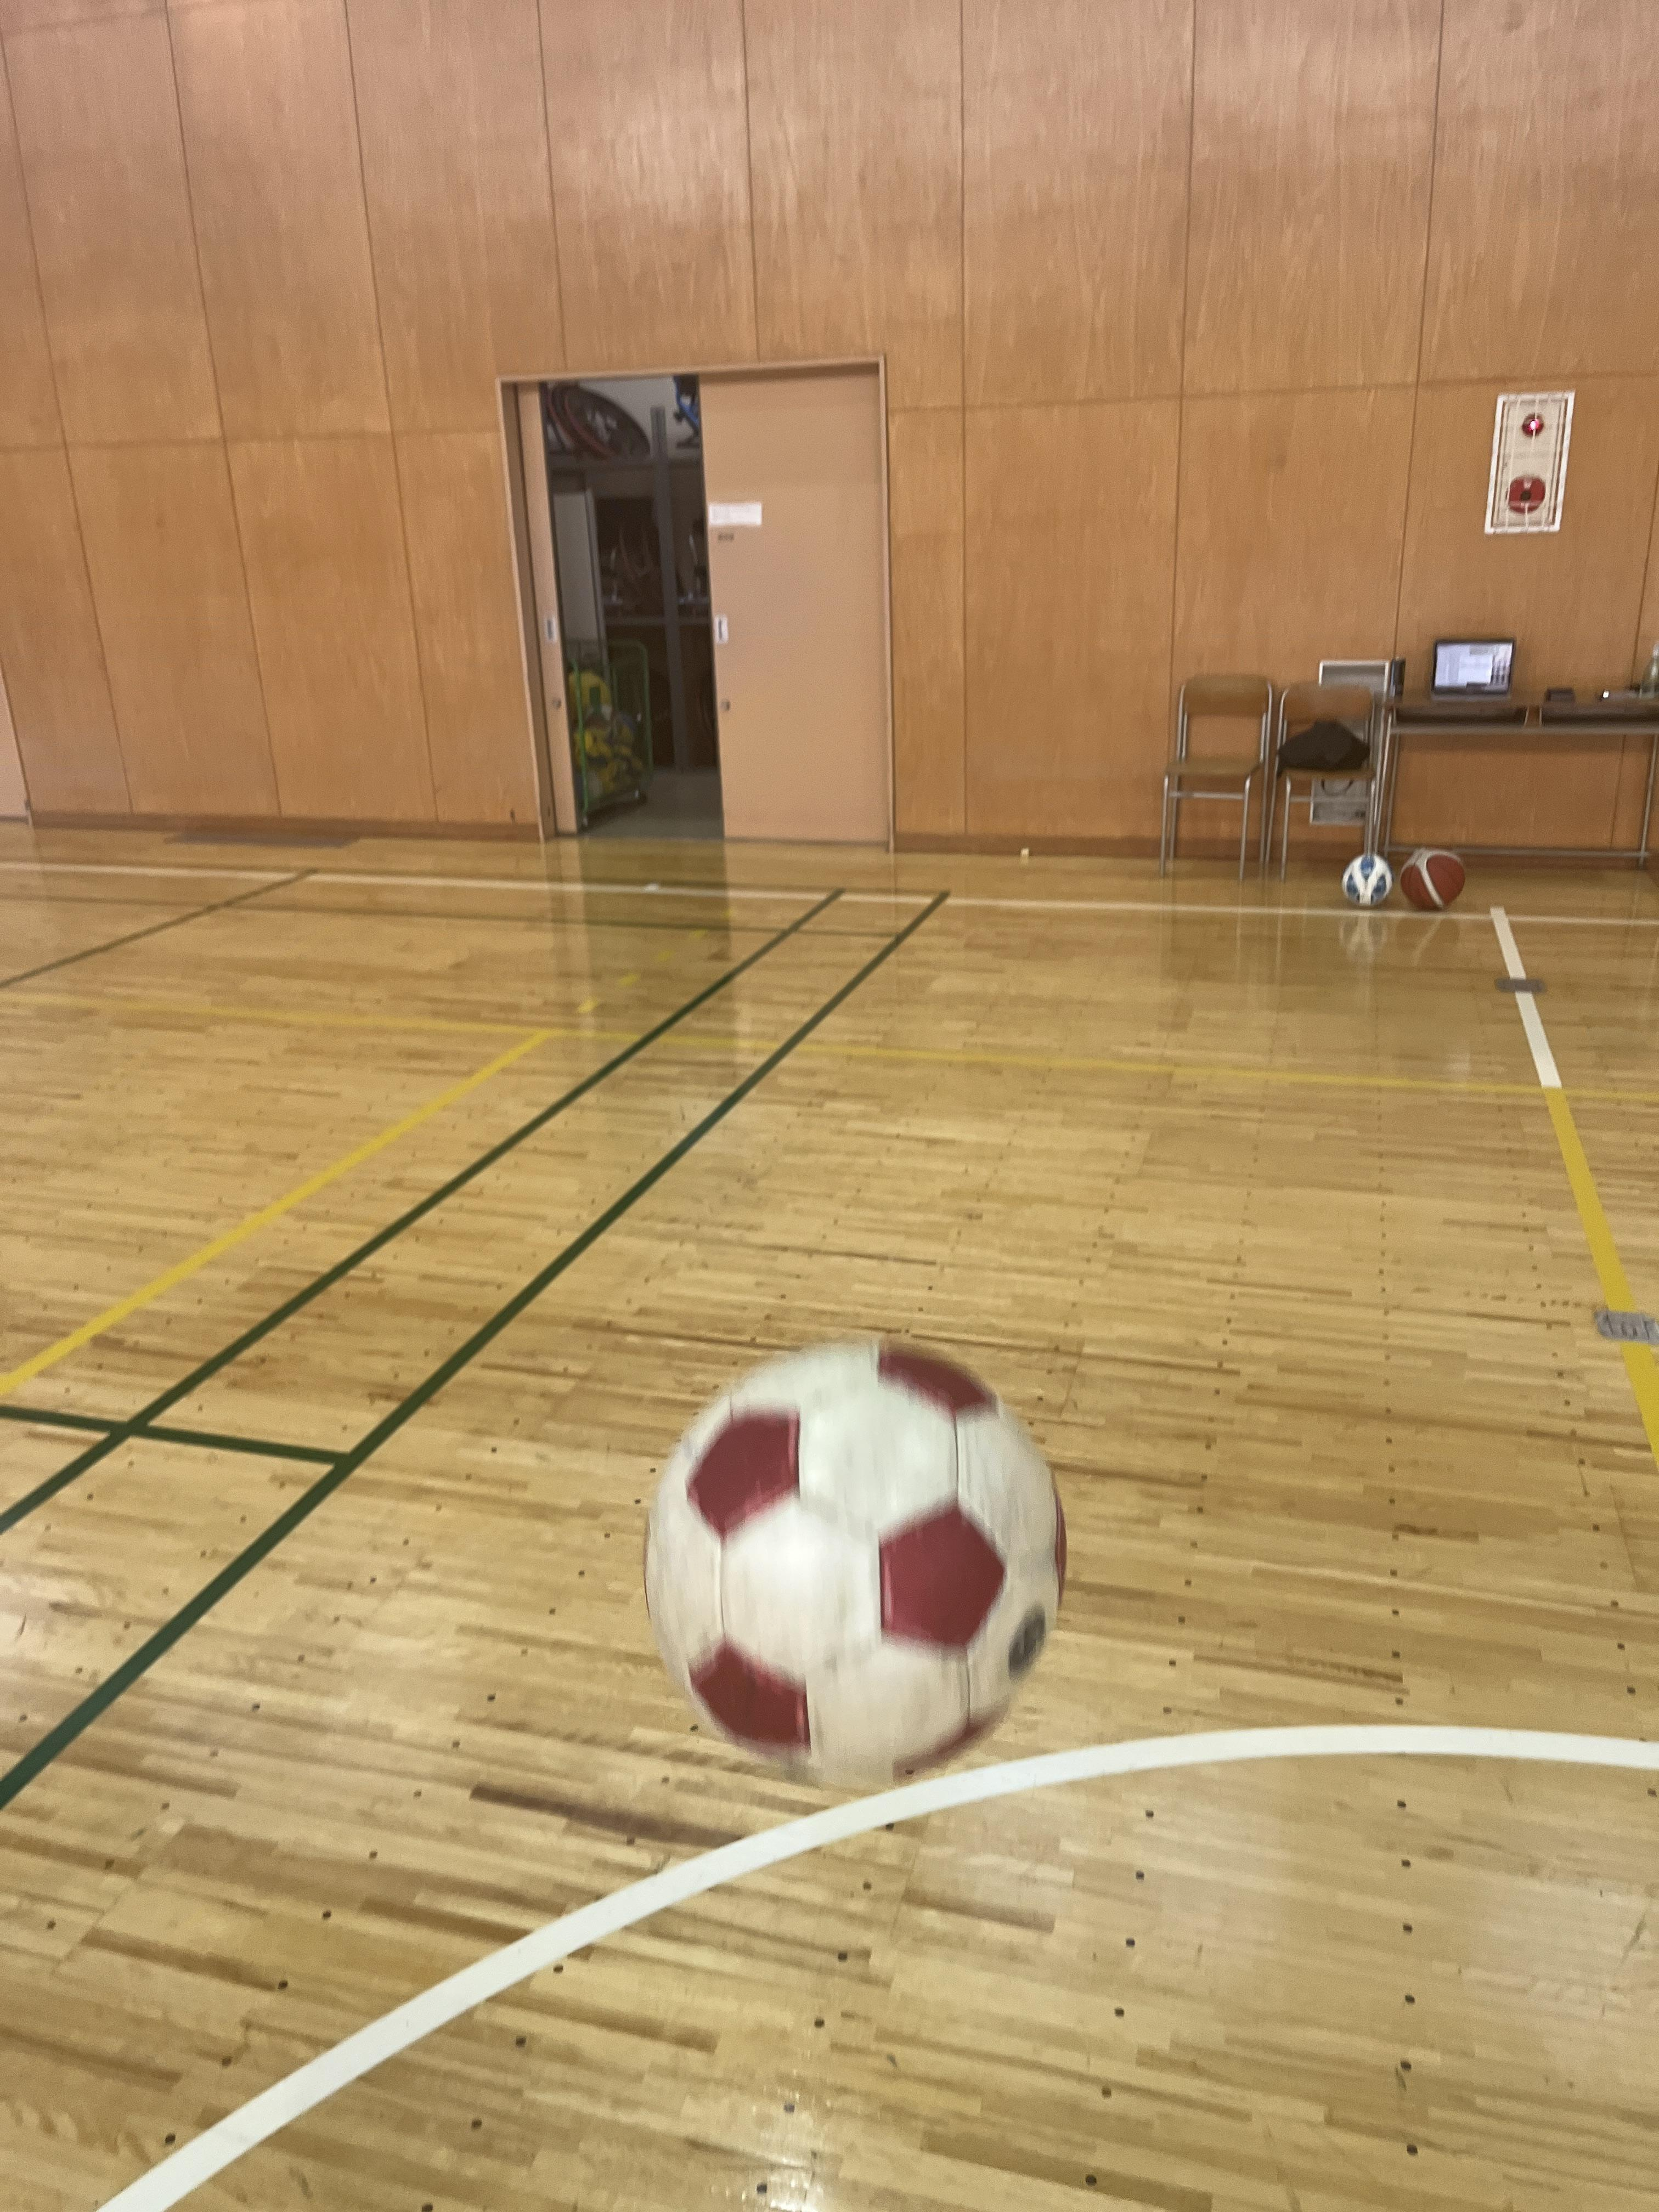Sports-Ball: (647, 1339, 1100, 1780)
